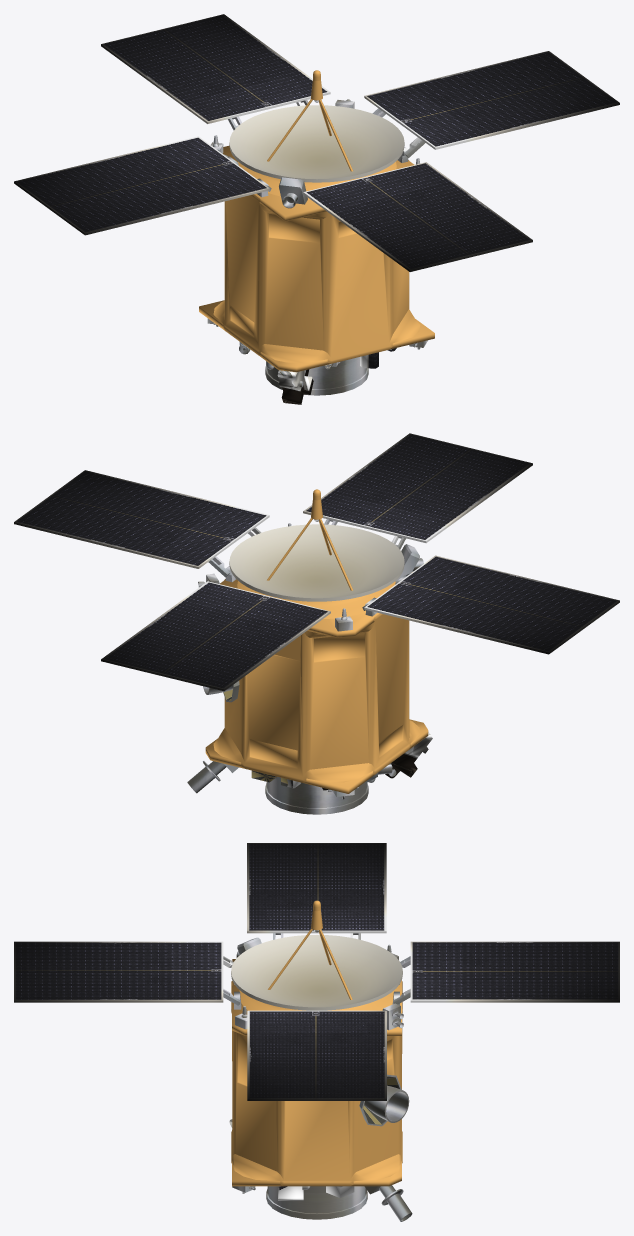
File: near.glb
3 views of the same model, one above another, from view 1: azimuth 30°, elevation 25°; view 2: azimuth 150°, elevation 25°; view 3: azimuth 270°, elevation 25° (orthographic).
Visible parts, largest first — view 1: shiny_panels, foil_gold, tex_01, foil_silver; view 2: shiny_panels, foil_gold, tex_01, foil_silver; view 3: shiny_panels, tex_01, foil_gold, foil_silver.
Boxes of the visible parts, x1,y1,x2,y2 form: shiny_panels: [16, 15, 617, 269]; foil_gold: [199, 70, 434, 372]; tex_01: [14, 14, 619, 395]; foil_silver: [277, 348, 396, 404]; shiny_panels: [16, 434, 617, 688]; foil_gold: [205, 489, 428, 793]; tex_01: [14, 433, 619, 814]; foil_silver: [251, 732, 432, 790]; shiny_panels: [15, 843, 618, 1098]; tex_01: [14, 843, 619, 1221]; foil_gold: [231, 900, 402, 1186]; foil_silver: [229, 1119, 354, 1200].
Size of the model in its own units: 5.29 by 2.86 by 5.29.
3 materials, 2 textured.
